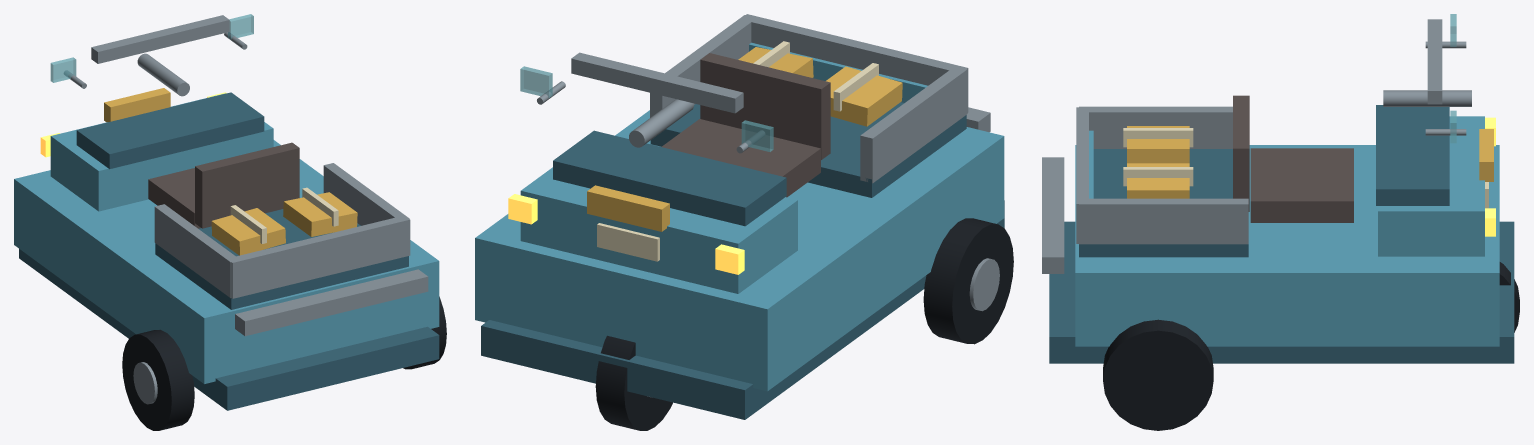
File: three_wheel_delivery_atlas_candidate.glb
3 renders of one model, left to right at view 1: azimuth 30°, elevation 25°; view 2: azimuth 150°, elevation 25°; view 3: azimuth 270°, elevation 25°, orthographic. The views are drawn at different scales.
Parts seen in each view (by area): view 1: 候选三轮车车体, 候选三轮车底盘, 候选三轮车前饰条, 候选三轮车货斗后栏, 候选三轮车前挡板, 候选三轮车靠背, 候选三轮车左后轮胎, 候选三轮车后保险杠, 候选三轮车货斗底板, 候选三轮车货斗左栏, 候选三轮车车把, 候选三轮车货斗右栏 (+11 smaller); view 2: 候选三轮车车体, 候选三轮车前挡板, 候选三轮车底盘, 候选三轮车前饰条, 候选三轮车靠背, 候选三轮车左后轮胎, 候选三轮车货斗左栏, 候选三轮车货斗后栏, 候选三轮车座椅, 候选三轮车货斗底板, 候选三轮车车把, 候选三轮车前轮胎 (+13 smaller); view 3: 候选三轮车车体, 候选三轮车底盘, 候选三轮车右后轮胎, 候选三轮车前挡板, 候选三轮车货斗右栏, 候选三轮车座椅, 候选三轮车前饰条, 候选三轮车货斗底板, 候选三轮车货斗左栏, 候选三轮车后保险杠, 候选三轮车靠背, 候选三轮车左货物托盘 (+8 smaller).
Part boxes in pixels (left/top/right/bottom): 候选三轮车车体: left=14, top=140, right=439, bottom=383; 候选三轮车底盘: left=19, top=249, right=439, bottom=410; 候选三轮车前饰条: left=76, top=92, right=264, bottom=169; 候选三轮车货斗后栏: left=227, top=215, right=410, bottom=298; 候选三轮车前挡板: left=50, top=93, right=273, bottom=211; 候选三轮车靠背: left=195, top=142, right=299, bottom=228; 候选三轮车左后轮胎: left=122, top=329, right=194, bottom=430; 候选三轮车后保险杠: left=235, top=269, right=428, bottom=336; 候选三轮车货斗底板: left=155, top=209, right=408, bottom=309; 候选三轮车货斗左栏: left=154, top=204, right=240, bottom=297; 候选三轮车车把: left=91, top=15, right=229, bottom=63; 候选三轮车货斗右栏: left=323, top=163, right=409, bottom=225; 候选三轮车车体: left=475, top=110, right=1004, bottom=391; 候选三轮车前挡板: left=520, top=167, right=797, bottom=293; 候选三轮车底盘: left=481, top=200, right=1004, bottom=419; 候选三轮车前饰条: left=553, top=130, right=786, bottom=226; 候选三轮车靠背: left=700, top=53, right=830, bottom=159; 候选三轮车左后轮胎: left=923, top=218, right=1013, bottom=344; 候选三轮车货斗左栏: left=860, top=66, right=967, bottom=183; 候选三轮车货斗后栏: left=741, top=14, right=968, bottom=112; 候选三轮车座椅: left=661, top=119, right=820, bottom=197; 候选三轮车货斗底板: left=650, top=102, right=966, bottom=197; 候选三轮车车把: left=571, top=52, right=743, bottom=113; 候选三轮车前轮胎: left=595, top=335, right=672, bottom=430; 候选三轮车车体: left=1075, top=145, right=1499, bottom=346; 候选三轮车底盘: left=1049, top=221, right=1514, bottom=363; 候选三轮车右后轮胎: left=1103, top=319, right=1213, bottom=430; 候选三轮车前挡板: left=1378, top=116, right=1484, bottom=256; 候选三轮车货斗右栏: left=1079, top=198, right=1248, bottom=244; 候选三轮车座椅: left=1250, top=148, right=1353, bottom=222; 候选三轮车前饰条: left=1376, top=105, right=1449, bottom=205; 候选三轮车货斗底板: left=1079, top=149, right=1248, bottom=257; 候选三轮车货斗左栏: left=1079, top=106, right=1232, bottom=148; 候选三轮车后保险杠: left=1042, top=157, right=1064, bottom=273; 候选三轮车靠背: left=1233, top=95, right=1249, bottom=211; 候选三轮车左货物托盘: left=1127, top=126, right=1189, bottom=163.
Bounding box in the file's own units: 1.94 × 1.8 × 2.59.
Materials: 3 (1 with a texture image).
